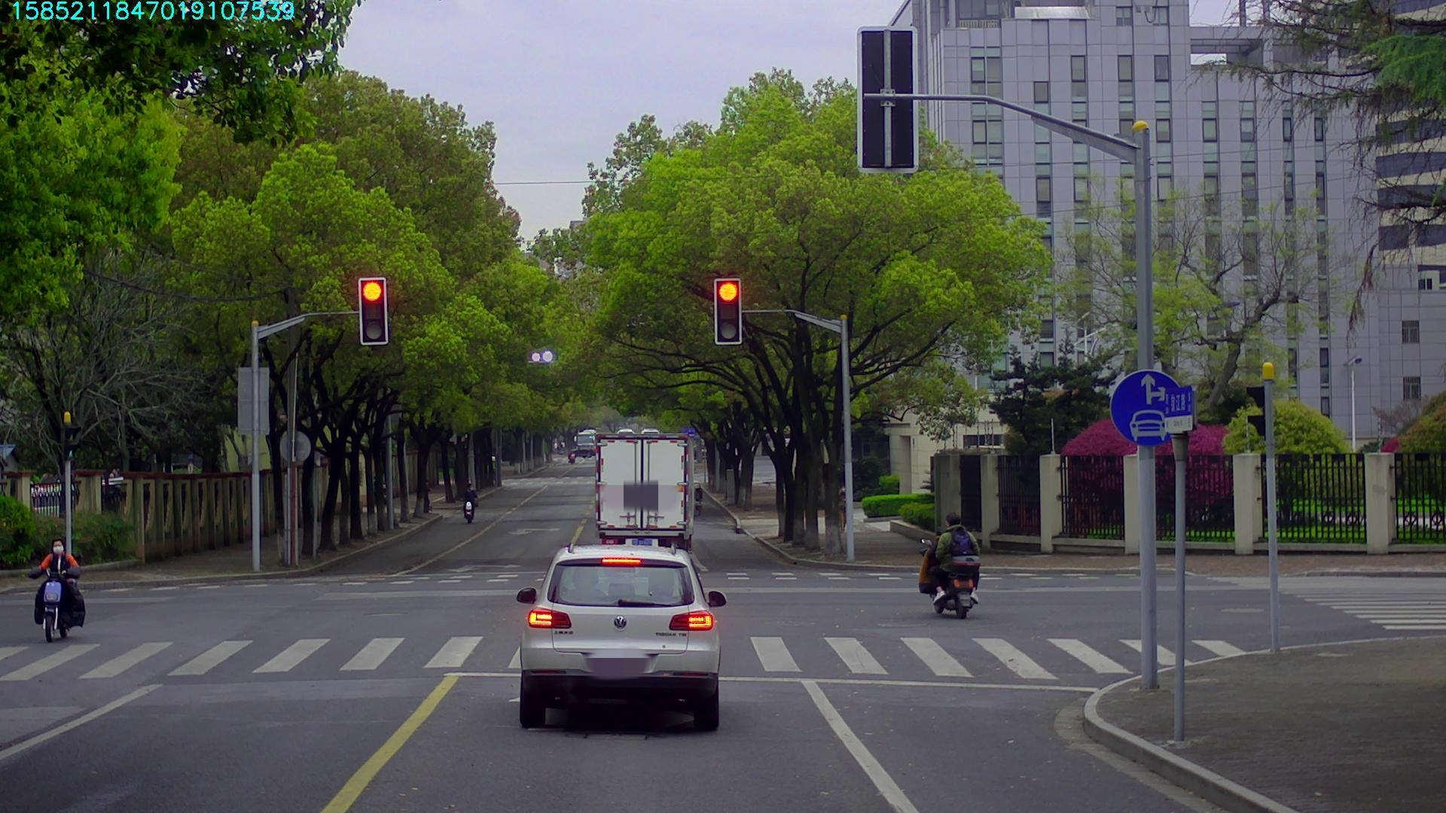red: (359, 279, 386, 343), (715, 281, 740, 343)
